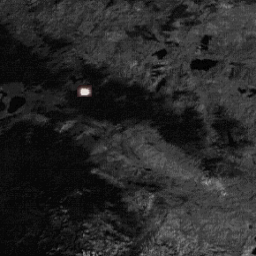Target: (79, 85, 91, 97)
